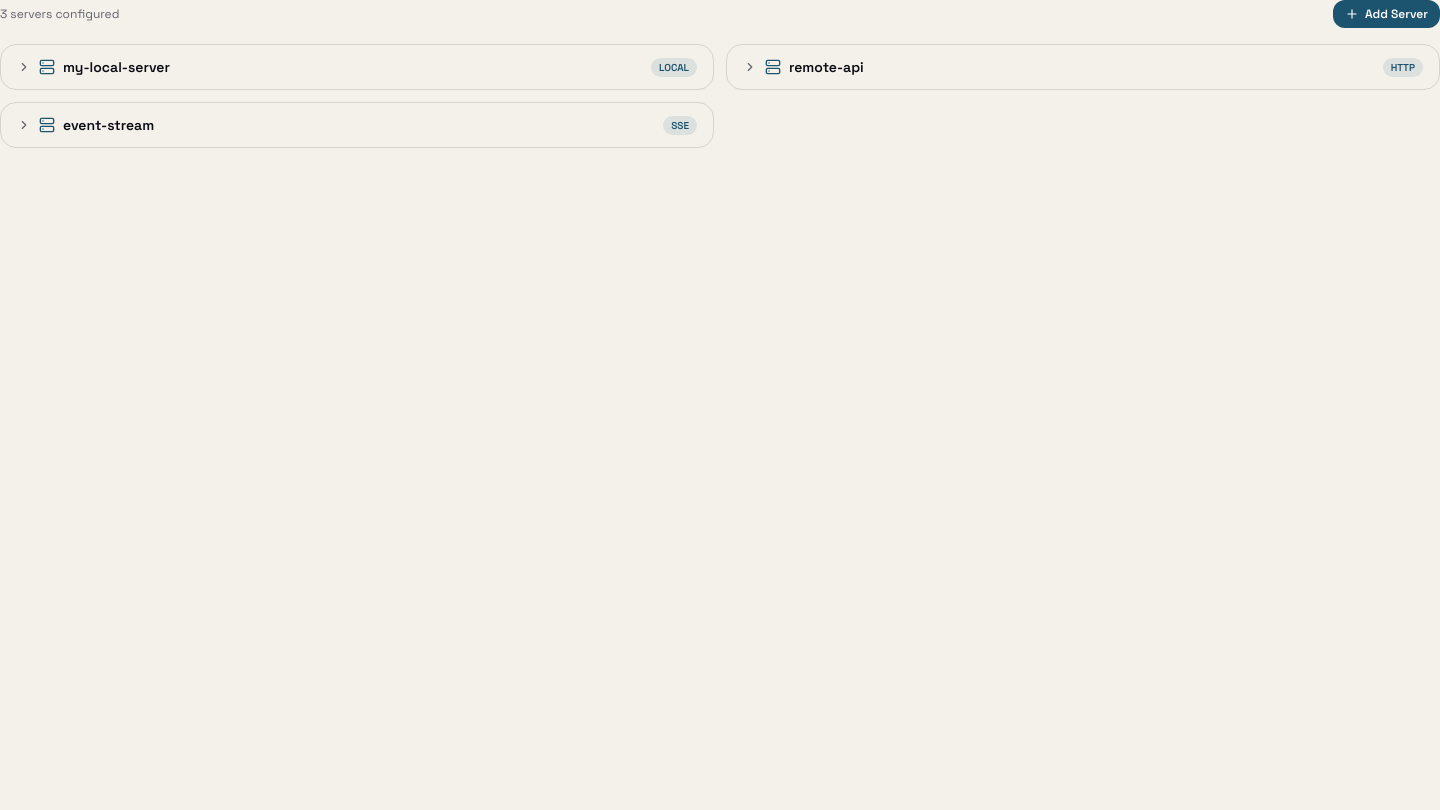
Test: McpEditorPanel › opens edit dialog when Edit is clicked
# Expand the first server card to reveal Edit button
Step 1. Click the text "my-local-server" → (116, 67), box 63,57 -> 170,77
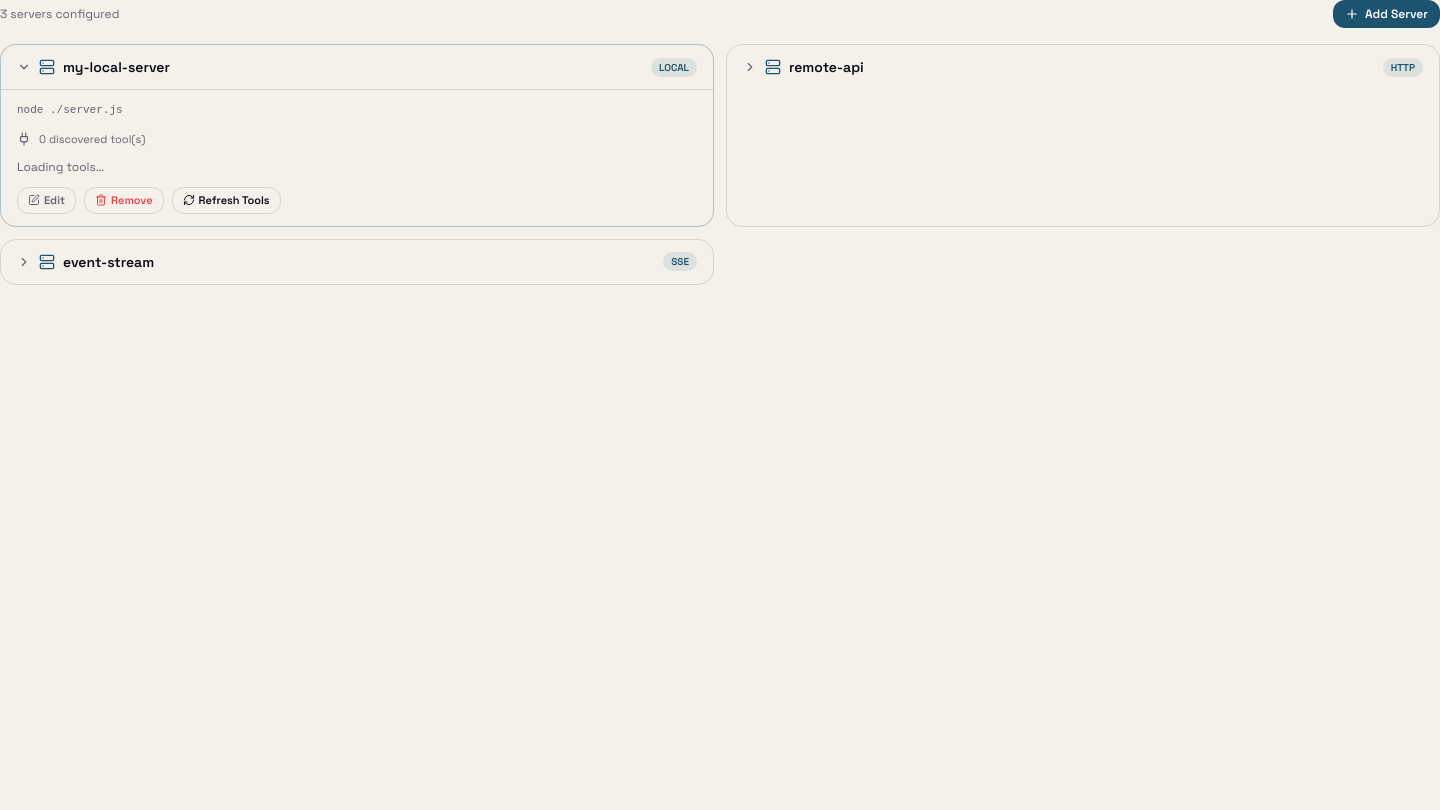
Step 2. Click the button "Edit" → (46, 200), box 17,187 -> 76,214
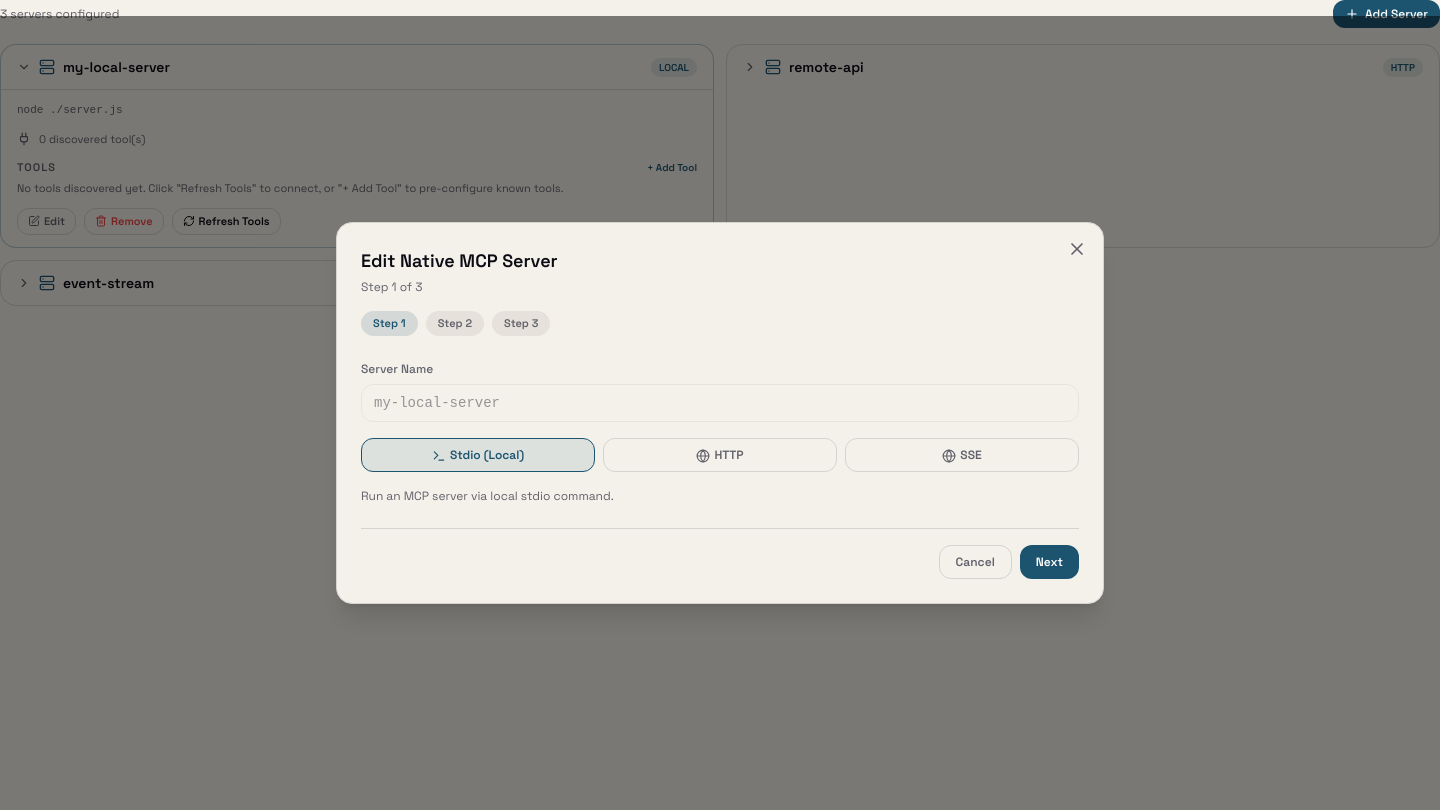
Now the dialog "Edit Native MCP Server" is shown, box 336,222 -> 1104,604
